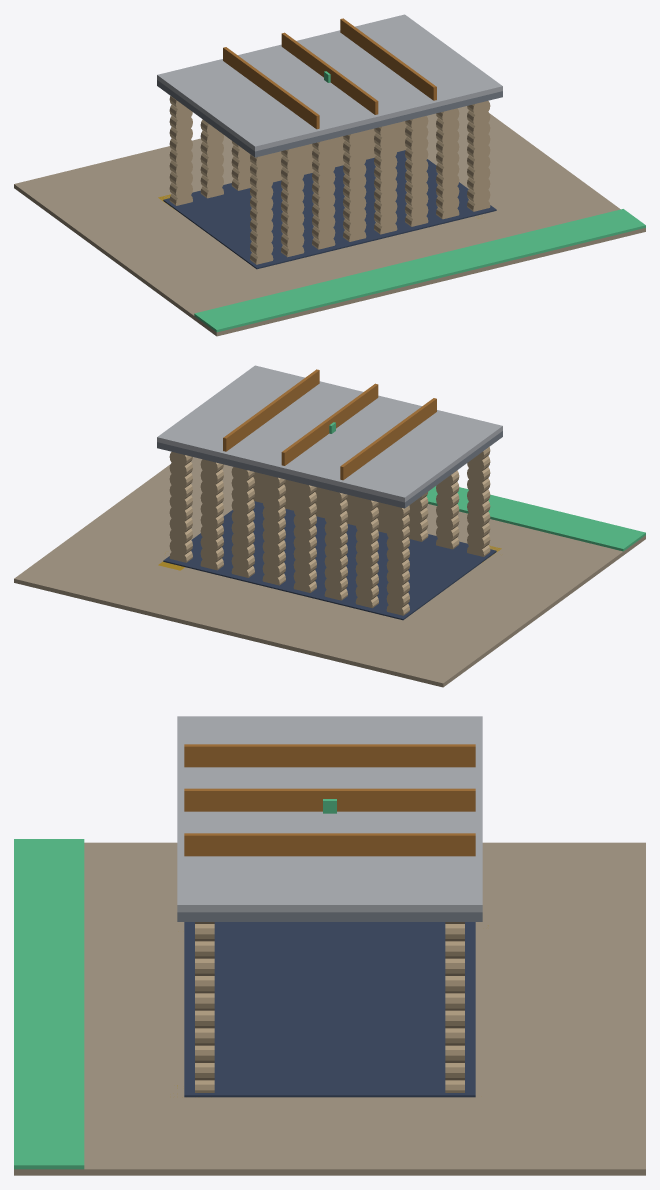
The model's file is construction_master.glb.
3 renders of one model, top to bottom at view 1: azimuth 30°, elevation 25°; view 2: azimuth 150°, elevation 25°; view 3: azimuth 270°, elevation 25°, orthographic. The views are drawn at different scales.
Visible parts, largest first — view 1: world; view 2: world; view 3: world.
Part boxes in pixels (left/top/right/bottom): world: left=14, top=14, right=645, bottom=336; world: left=14, top=365, right=645, bottom=687; world: left=14, top=716, right=645, bottom=1175.
Bounding box in the file's own units: 11 × 4.2 × 9.
